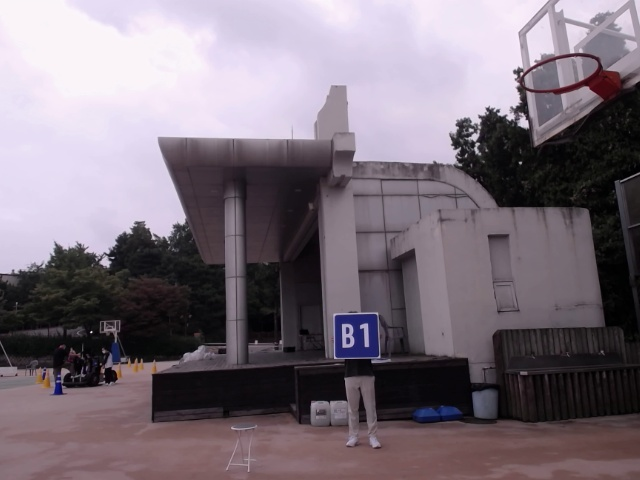delivery_b1: (333, 313, 380, 359)
